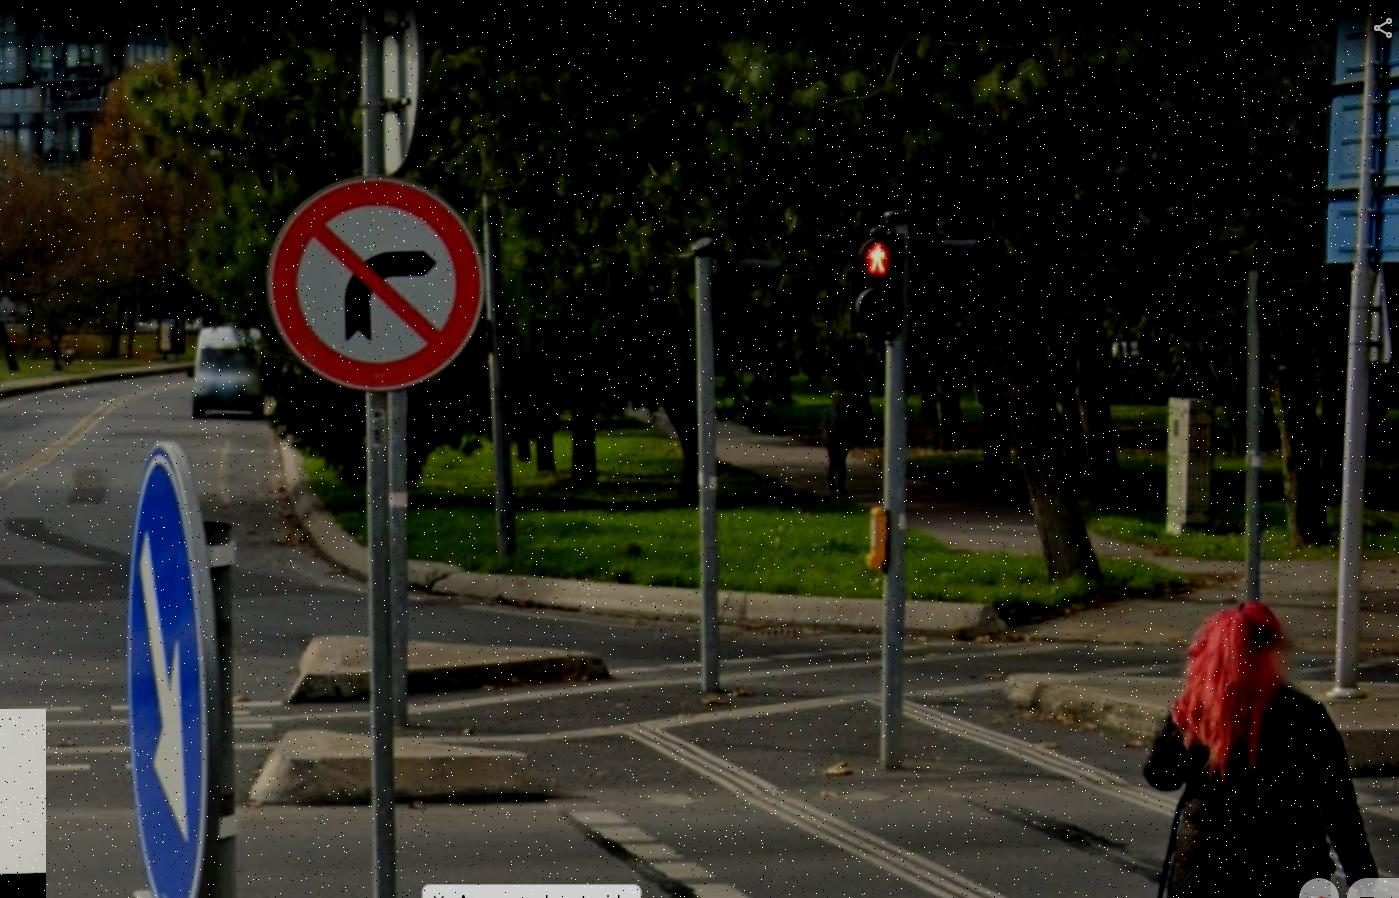rightturnsareforbidden: (266, 183, 481, 383)
